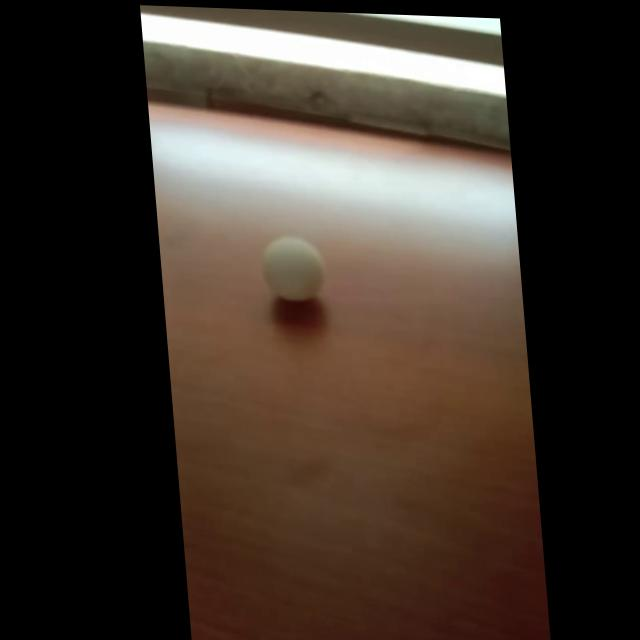white ball: (259, 234, 327, 302)
